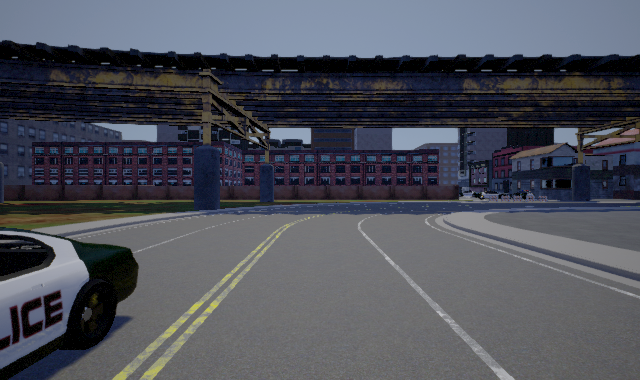vehicle: (0, 227, 139, 380)
